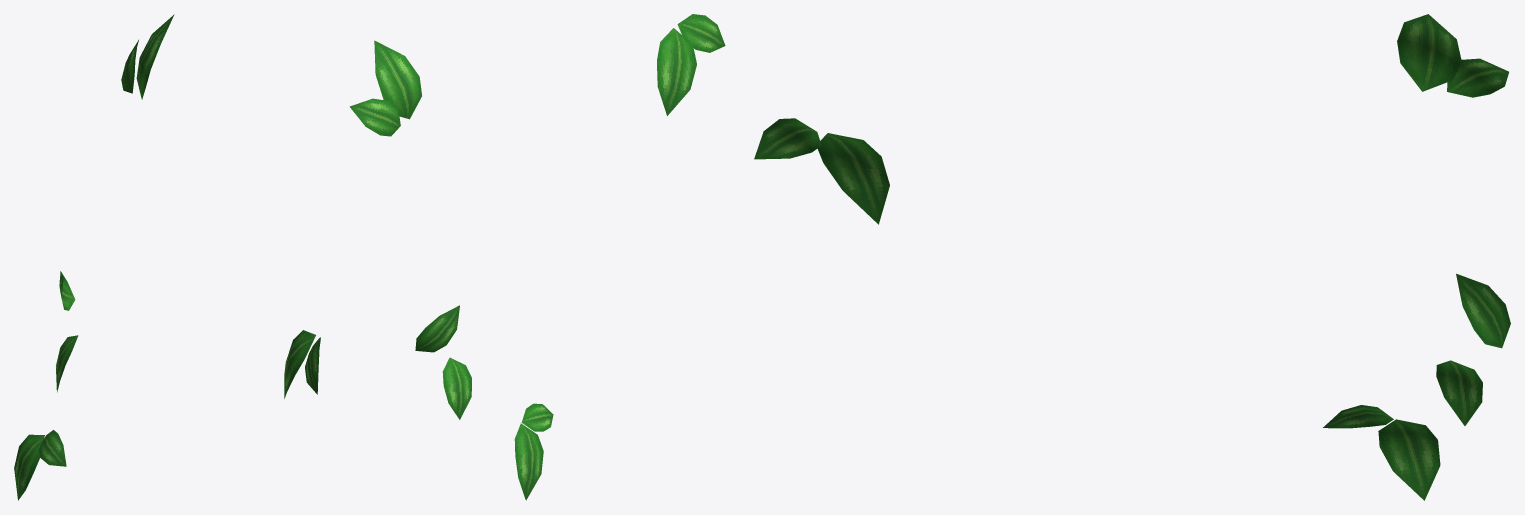
The model's file is EKH_BARRELROOM_PS_JA1_LEAVES847746.fbx.
3 views of the same model, side by side, from view 1: azimuth 30°, elevation 25°; view 2: azimuth 150°, elevation 25°; view 3: azimuth 270°, elevation 25° (orthographic). The views are drawn at different scales.
Parts seen in each view (by area): view 1: EKH_BARRELROOM_PS_JA1_LEAVES847746; view 2: EKH_BARRELROOM_PS_JA1_LEAVES847746; view 3: EKH_BARRELROOM_PS_JA1_LEAVES847746.
Boxes of the visible parts, x1,y1,x2,y2 form: EKH_BARRELROOM_PS_JA1_LEAVES847746: (14,14,320,500); EKH_BARRELROOM_PS_JA1_LEAVES847746: (349,14,725,500); EKH_BARRELROOM_PS_JA1_LEAVES847746: (754,14,1510,500).
Size of the model in its own units: 5479 by 14422 by 16812.
1 material, 1 textured.
